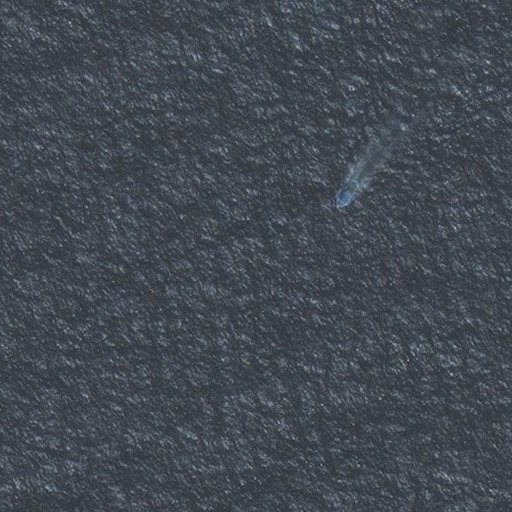ship: (333, 186, 355, 208)
